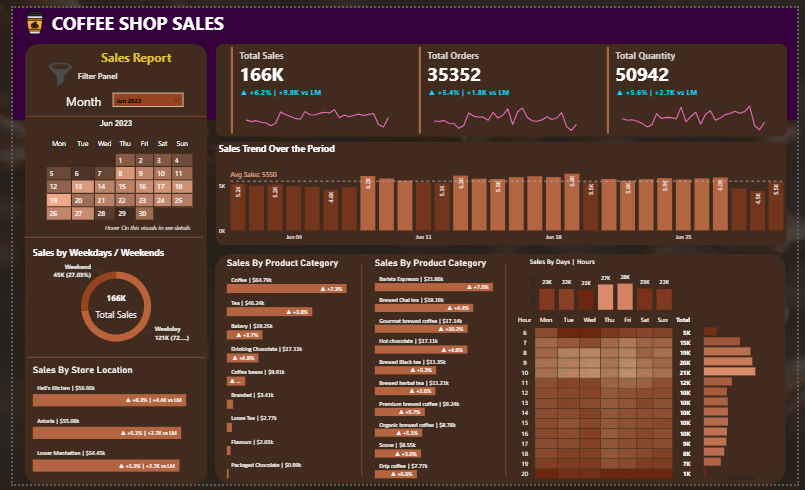

What the dashboard file says about the page in this screenshot:
{"tool":"powerbi","page":{"name":"Coffee Shop Dashboard","canvas":[1400,850],"ordinal":0},"visuals":[{"type":"shape","box":[0,0,1400,200],"z":0},{"type":"cardVisual","fields":{"Data":["coffee_shop_sales_db coffee_shop_sales.Total Sales"]},"box":[383.5,63.9,300.6,165.9],"z":0,"group":"g1"},{"type":"cardVisual","fields":{"Data":["coffee_shop_sales_db coffee_shop_sales.Total Orders"]},"box":[719.6,63.9,300.6,165.9],"z":0,"group":"g2"},{"type":"cardVisual","fields":{"Data":["coffee_shop_sales_db coffee_shop_sales.Total Quantity"]},"box":[1055.6,63.9,300.6,165.9],"z":0,"group":"g3"},{"type":"shape","box":[22.2,64.4,325.6,785.6],"z":1000},{"type":"lineChart","fields":{"Y":["coffee_shop_sales_db coffee_shop_sales.Total Sales"],"Category":["Date Table.Date.Variation.Date Hierarchy.Year","Date Table.Date.Variation.Date Hierarchy.Quarter","Date Table.Date.Variation.Date Hierarchy.Month","Date Table.Date.Variation.Date Hierarchy.Day"]},"box":[400.8,139.9,283.3,84.7],"z":1000,"group":"g1"},{"type":"lineChart","fields":{"Category":["Date Table.Date.Variation.Date Hierarchy.Year","Date Table.Date.Variation.Date Hierarchy.Quarter","Date Table.Date.Variation.Date Hierarchy.Month","Date Table.Date.Variation.Date Hierarchy.Day"],"Y":["coffee_shop_sales_db coffee_shop_sales.Total Orders"]},"box":[736.9,139.9,283.3,84.7],"z":1000,"group":"g2"},{"type":"lineChart","fields":{"Category":["Date Table.Date.Variation.Date Hierarchy.Year","Date Table.Date.Variation.Date Hierarchy.Quarter","Date Table.Date.Variation.Date Hierarchy.Month","Date Table.Date.Variation.Date Hierarchy.Day"],"Y":["coffee_shop_sales_db coffee_shop_sales.Total Quantity"]},"box":[1072.9,139.9,283.3,84.7],"z":1000,"group":"g3"},{"type":"shape","box":[363.3,64.4,1020,165.6],"z":2000},{"type":"textbox","box":[64.4,0,336.7,64.4],"z":3000},{"type":"slicer","fields":{"Values":["Date Table.Month Year"]},"box":[172.8,146.8,136.5,38],"z":4000},{"type":"group","id":"g1","title":"Group 1","box":[383.5,63.9,300.6,165.9],"z":5000},{"type":"group","id":"g2","title":"Group 1","box":[719.6,63.9,300.6,165.9],"z":6000},{"type":"group","id":"g3","title":"Group 1","box":[1055.6,63.9,300.6,165.9],"z":7000},{"type":"pivotTable","fields":{"Rows":["Date Table.Week Number"],"Columns":["Date Table.Day Name"],"Values":["Min(Date Table.Day Number)"]},"box":[31.1,224.6,305.8,190],"z":8000},{"type":"card","fields":{"Values":["Min(Date Table.Month Year)"]},"box":[105.4,186.6,157.2,43.2],"z":9000},{"type":"card","fields":{"Values":["coffee_shop_sales_db coffee_shop_sales.Foot Note"]},"box":[138.2,376.6,205.6,36.3],"z":10000},{"type":"donutChart","title":"Sales by Weekdays / Weekends","fields":{"Category":["Date Table.Weekdays / Weekends"],"Y":["coffee_shop_sales_db coffee_shop_sales.Total Sales"]},"box":[31.1,425,307.5,195.2],"z":11000},{"type":"card","fields":{"Values":["coffee_shop_sales_db coffee_shop_sales.Total Sales"]},"box":[114,495.8,139.9,69.1],"z":12000},{"type":"shape","box":[22.5,181.4,321.3,22.5],"z":13000},{"type":"shape","box":[19,399.1,321.3,22.5],"z":14000},{"type":"shape","box":[22.5,613.3,321.3,22.5],"z":15000},{"type":"clusteredBarChart","title":"Sales By Store Location","fields":{"Category":["coffee_shop_sales_db coffee_shop_sales.store_location"],"Y":["coffee_shop_sales_db coffee_shop_sales.Placeholder","coffee_shop_sales_db coffee_shop_sales.Total Sales"]},"box":[31.1,635.8,307.5,200.4],"z":16000},{"type":"shape","box":[362.8,240.1,1019.3,184.9],"z":17000},{"type":"columnChart","title":"Sales Trend Over the Period","fields":{"Category":["coffee_shop_sales_db coffee_shop_sales.transaction_date"],"Y":["coffee_shop_sales_db coffee_shop_sales.Total Sales"]},"box":[362.8,240.1,1019.3,184.9],"z":18000},{"type":"shape","box":[361.1,438.8,1019.3,411.2],"z":19000},{"type":"clusteredBarChart","title":"Sales By Product Category","fields":{"Y":["coffee_shop_sales_db coffee_shop_sales.Placeholder","coffee_shop_sales_db coffee_shop_sales.Total Sales"],"Category":["coffee_shop_sales_db coffee_shop_sales.product_category"]},"box":[376.6,444,250.5,400.8],"z":20000},{"type":"shape","box":[609.9,457.8,24.2,378.4],"z":21000},{"type":"clusteredBarChart","title":"Sales By Product Category","fields":{"Y":["coffee_shop_sales_db coffee_shop_sales.Placeholder","coffee_shop_sales_db coffee_shop_sales.Total Sales"],"Category":["coffee_shop_sales_db coffee_shop_sales.product_type"]},"box":[641,444,250.5,400.8],"z":22000},{"type":"shape","box":[867.3,457.8,24.2,378.4],"z":23000},{"type":"pivotTable","fields":{"Rows":["coffee_shop_sales_db coffee_shop_sales.Hour"],"Columns":["Date Table.Day Name"],"Values":["coffee_shop_sales_db coffee_shop_sales.Total Sales"]},"box":[891.5,542.5,336.9,307.5],"z":24000},{"type":"barChart","fields":{"Category":["coffee_shop_sales_db coffee_shop_sales.Hour"],"Y":["coffee_shop_sales_db coffee_shop_sales.Total Sales"]},"box":[1228.4,558,139.9,292],"z":25000},{"type":"columnChart","title":"Sales By Days | Hours","fields":{"Y":["coffee_shop_sales_db coffee_shop_sales.Total Sales"],"Category":["Date Table.Day Name"]},"box":[917.4,444,264.3,100.2],"z":26000},{"type":"textbox","box":[82.9,146.8,88.1,46.6],"z":27000},{"type":"textbox","box":[129.6,67.4,179.7,46.6],"z":28000},{"type":"textbox","box":[84.7,105.4,134.8,41.5],"z":29000},{"type":"image","box":[57,91.6,55.3,55.3],"z":30000},{"type":"image","box":[6.9,0,63.9,51.8],"z":30001}]}

Visuals, with their boxes in screenshot pixels (x1, y1, x2, y2), scaled from the page's 1400x850 canvas onto the 805x490 screenshot:
shape: (0,0,804,115)
cardVisual - coffee_shop_sales_db coffee_shop_sales.Total Sales: (221,37,393,132)
cardVisual - coffee_shop_sales_db coffee_shop_sales.Total Orders: (414,37,587,132)
cardVisual - coffee_shop_sales_db coffee_shop_sales.Total Quantity: (607,37,780,132)
shape: (13,37,200,489)
lineChart - coffee_shop_sales_db coffee_shop_sales.Total Sales x Date Table.Date.Variation.Date Hierarchy.Year: (230,81,393,129)
lineChart - Date Table.Date.Variation.Date Hierarchy.Year x Date Table.Date.Variation.Date Hierarchy.Quarter: (424,81,587,129)
lineChart - Date Table.Date.Variation.Date Hierarchy.Year x Date Table.Date.Variation.Date Hierarchy.Quarter: (617,81,780,129)
shape: (209,37,795,133)
textbox: (37,0,231,37)
slicer - Date Table.Month Year: (99,85,178,107)
"Group 1" group: (221,37,393,132)
"Group 1" group: (414,37,587,132)
"Group 1" group: (607,37,780,132)
pivotTable - Date Table.Week Number x Date Table.Day Name: (18,129,194,239)
card - Min(Date Table.Month Year): (61,108,151,132)
card - coffee_shop_sales_db coffee_shop_sales.Foot Note: (79,217,198,238)
"Sales by Weekdays / Weekends" donutChart: (18,245,195,358)
card - coffee_shop_sales_db coffee_shop_sales.Total Sales: (66,286,146,326)
shape: (13,105,198,118)
shape: (11,230,196,243)
shape: (13,354,198,367)
"Sales By Store Location" clusteredBarChart: (18,367,195,482)
shape: (209,138,795,245)
"Sales Trend Over the Period" columnChart: (209,138,795,245)
shape: (208,253,794,489)
"Sales By Product Category" clusteredBarChart: (217,256,361,487)
shape: (351,264,365,482)
"Sales By Product Category" clusteredBarChart: (369,256,513,487)
shape: (499,264,513,482)
pivotTable - coffee_shop_sales_db coffee_shop_sales.Hour x Date Table.Day Name: (513,313,706,489)
barChart - coffee_shop_sales_db coffee_shop_sales.Hour x coffee_shop_sales_db coffee_shop_sales.Total Sales: (706,322,787,489)
"Sales By Days | Hours" columnChart: (528,256,679,314)
textbox: (48,85,98,111)
textbox: (75,39,178,66)
textbox: (49,61,126,85)
image: (33,53,65,85)
image: (4,0,41,30)
